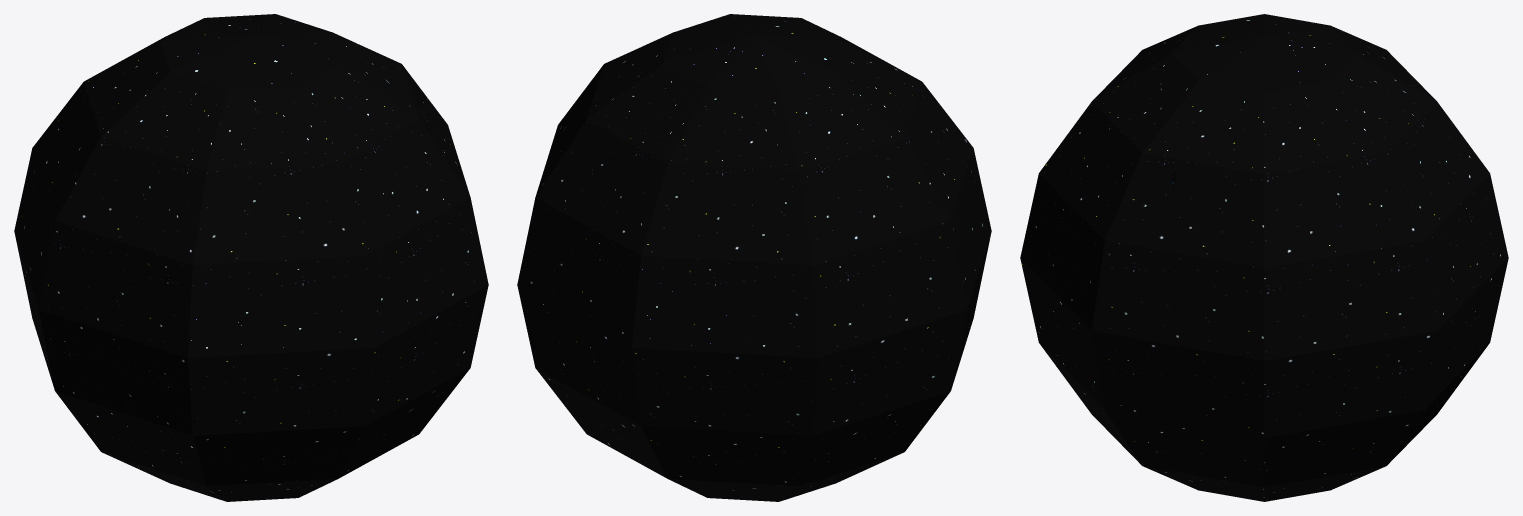
File: SkySphere.obj
3 views of the same model, side by side, from view 1: azimuth 30°, elevation 25°; view 2: azimuth 150°, elevation 25°; view 3: azimuth 270°, elevation 25° (orthographic).
Size of the model in its own units: 7136 by 7136 by 7136.
Materials: 3 (3 with a texture image).
